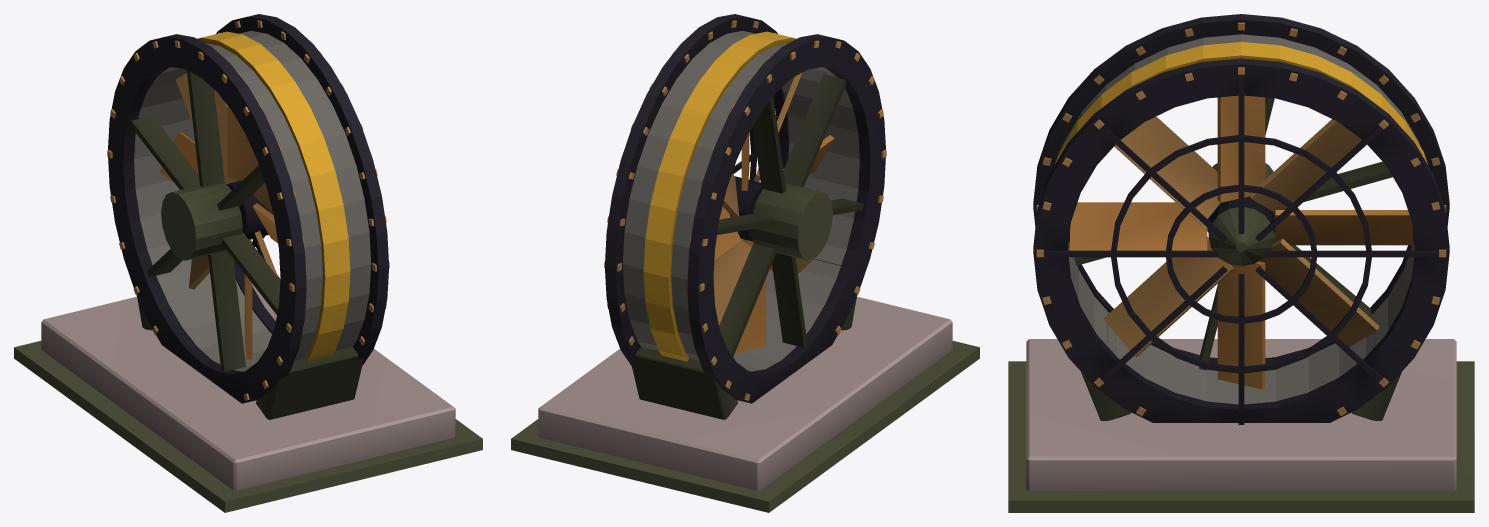
3 views of the same model, side by side, from view 1: azimuth 30°, elevation 25°; view 2: azimuth 150°, elevation 25°; view 3: azimuth 270°, elevation 25° (orthographic). The views are drawn at different scales.
Parts seen in each view (by area): view 1: body_pal_picketWhite, fanRotor_pal_picketWhite; view 2: body_pal_picketWhite, fanRotor_pal_picketWhite; view 3: body_pal_picketWhite, fanRotor_pal_picketWhite.
Boxes of the visible parts, x1,y1,x2,y2 form: body_pal_picketWhite: (14, 14, 482, 512); fanRotor_pal_picketWhite: (159, 73, 278, 359); body_pal_picketWhite: (511, 14, 979, 512); fanRotor_pal_picketWhite: (713, 73, 834, 354); body_pal_picketWhite: (1008, 14, 1474, 512); fanRotor_pal_picketWhite: (1070, 95, 1412, 389).
Bounding box in the file's own units: 7.2 × 9.75 × 10.2.
